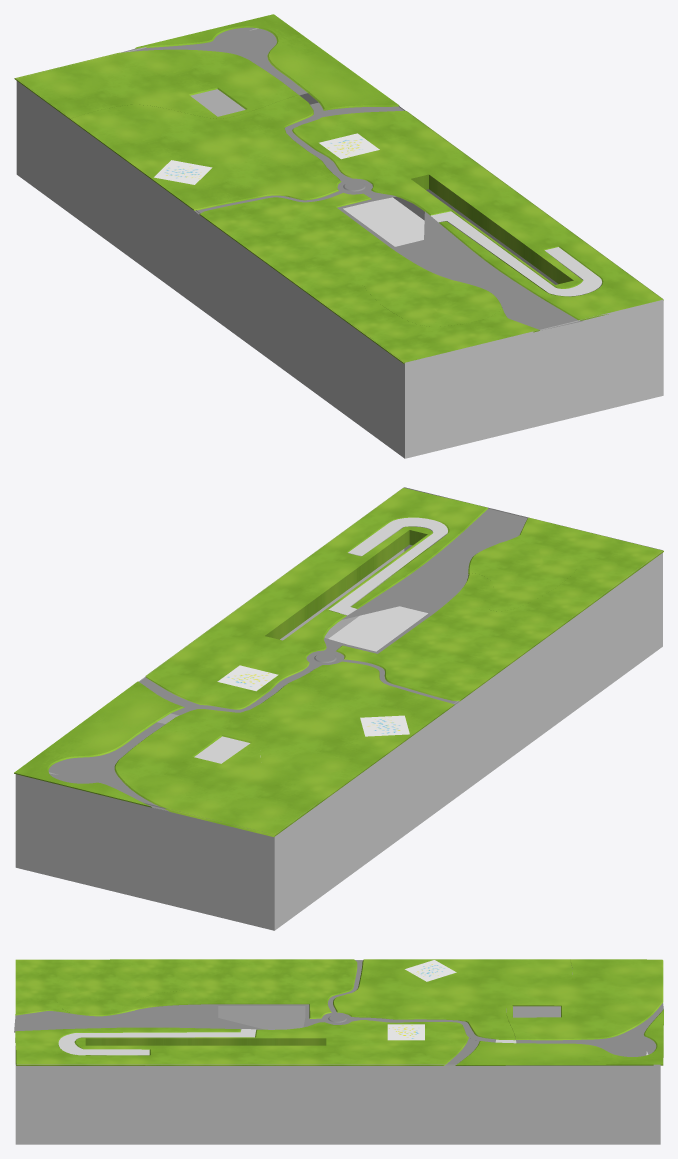
The model's file is Coaster desert ground.FBX.
3 renders of one model, top to bottom at view 1: azimuth 30°, elevation 25°; view 2: azimuth 150°, elevation 25°; view 3: azimuth 270°, elevation 25°, orthographic. The views are drawn at different scales.
Visible parts, largest first — view 1: clipping box, Grass3_1, Grass2_1, Grass1_1, MainPath001, Grass4_1, Grass1PondCover, Grass3RiverCover, SmallPath, Flowers1_014, Flowers1_015, Grass4RiverCover (+1 smaller); view 2: clipping box, Grass3_1, Grass2_1, Grass1_1, MainPath001, Grass4_1, Grass1PondCover, Grass3RiverCover, SmallPath, Flowers1_014, Flowers1_015, Grass4RiverCover (+1 smaller); view 3: clipping box, Grass3_1, Grass2_1, Grass1_1, MainPath001, Grass4_1, Grass1PondCover, Grass3RiverCover, SmallPath, Flowers1_015, Flowers1_014, Grass4RiverCover (+1 smaller).
Boxes of the visible parts, bbox=[...] form: clipping box: bbox=[16, 28, 663, 458]; Grass3_1: bbox=[14, 49, 341, 210]; Grass2_1: bbox=[292, 110, 663, 320]; Grass1_1: bbox=[199, 192, 539, 363]; MainPath001: bbox=[121, 27, 582, 330]; Grass4_1: bbox=[135, 14, 399, 110]; Grass1PondCover: bbox=[359, 269, 501, 326]; Grass3RiverCover: bbox=[70, 95, 309, 129]; SmallPath: bbox=[431, 211, 601, 296]; Flowers1_014: bbox=[154, 160, 212, 184]; Flowers1_015: bbox=[319, 133, 379, 159]; Grass4RiverCover: bbox=[308, 80, 377, 102]; clipping box: bbox=[15, 487, 662, 930]; Grass3_1: bbox=[114, 661, 454, 836]; Grass2_1: bbox=[145, 488, 487, 709]; Grass1_1: bbox=[336, 517, 663, 701]; MainPath001: bbox=[48, 508, 527, 811]; Grass4_1: bbox=[14, 681, 184, 807]; Grass1PondCover: bbox=[468, 541, 577, 611]; Grass3RiverCover: bbox=[167, 715, 340, 795]; SmallPath: bbox=[329, 517, 447, 615]; Flowers1_014: bbox=[360, 715, 409, 736]; Flowers1_015: bbox=[217, 665, 278, 691]; Grass4RiverCover: bbox=[105, 696, 170, 721]; clipping box: bbox=[15, 960, 660, 1144]; Grass3_1: bbox=[333, 959, 663, 1040]; Grass2_1: bbox=[15, 1020, 468, 1065]; Grass1_1: bbox=[15, 959, 357, 1018]; MainPath001: bbox=[14, 960, 663, 1065]; Grass4_1: bbox=[455, 1009, 663, 1065]; Grass1PondCover: bbox=[56, 977, 188, 1016]; Grass3RiverCover: bbox=[485, 959, 572, 1040]; SmallPath: bbox=[58, 1029, 255, 1055]; Flowers1_015: bbox=[387, 1024, 424, 1040]; Flowers1_014: bbox=[405, 960, 456, 981]; Grass4RiverCover: bbox=[490, 1042, 516, 1065].
Size of the model in its own units: 211 by 74.55 by 548.
